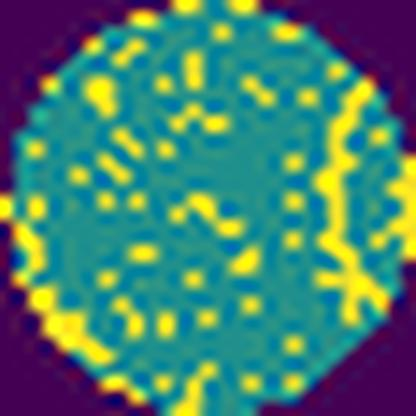Scratch: (312, 75, 394, 325)
